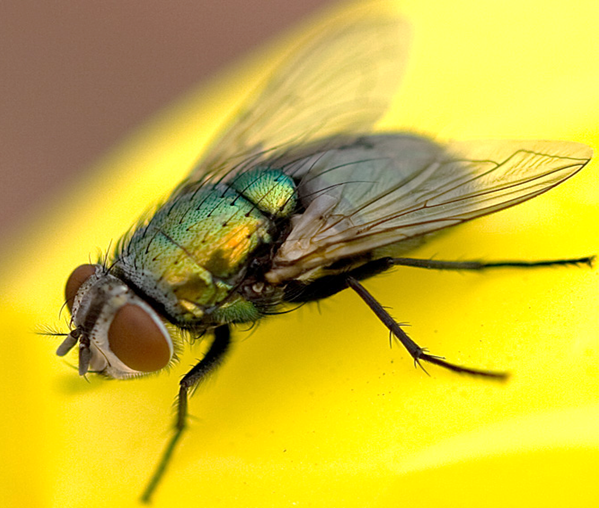fly: (42, 7, 599, 505)
